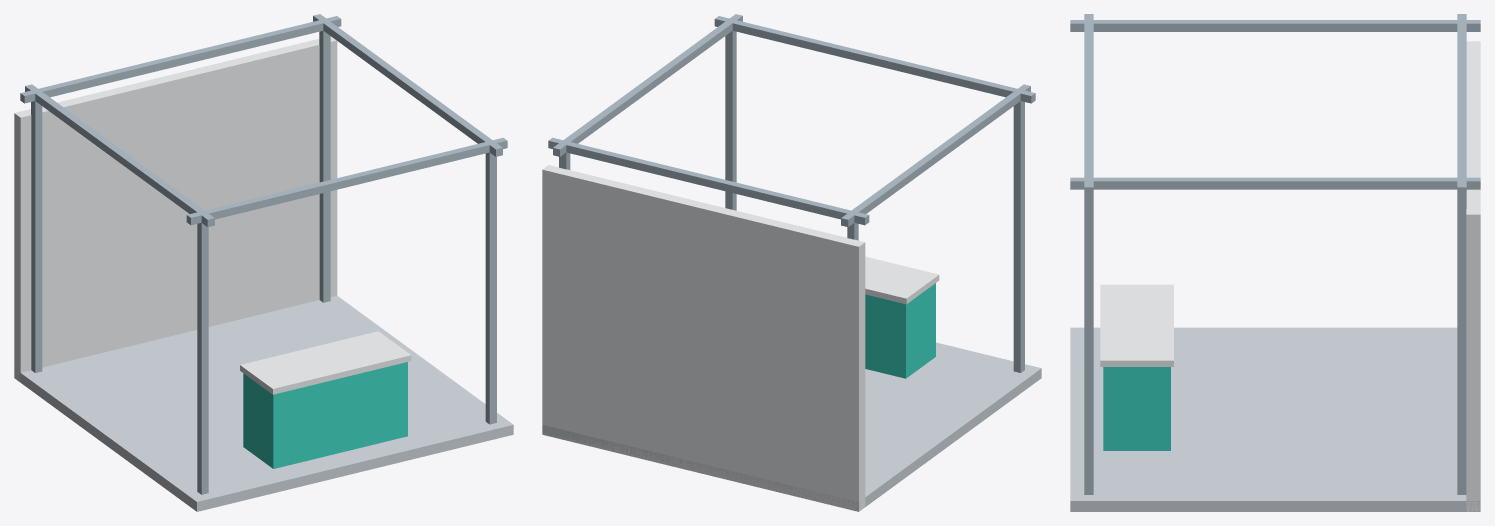
3 views of the same model, side by side, from view 1: azimuth 30°, elevation 25°; view 2: azimuth 150°, elevation 25°; view 3: azimuth 270°, elevation 25° (orthographic). The views are drawn at different scales.
Visible parts, largest first — view 1: Exhibition Booth Concept; view 2: Exhibition Booth Concept; view 3: Exhibition Booth Concept.
Boxes of the visible parts, bbox=[...] form: Exhibition Booth Concept: bbox=[14, 14, 513, 511]; Exhibition Booth Concept: bbox=[542, 14, 1041, 511]; Exhibition Booth Concept: bbox=[1070, 14, 1480, 511].
Bounding box in the file's own units: 4 × 3.49 × 4.
